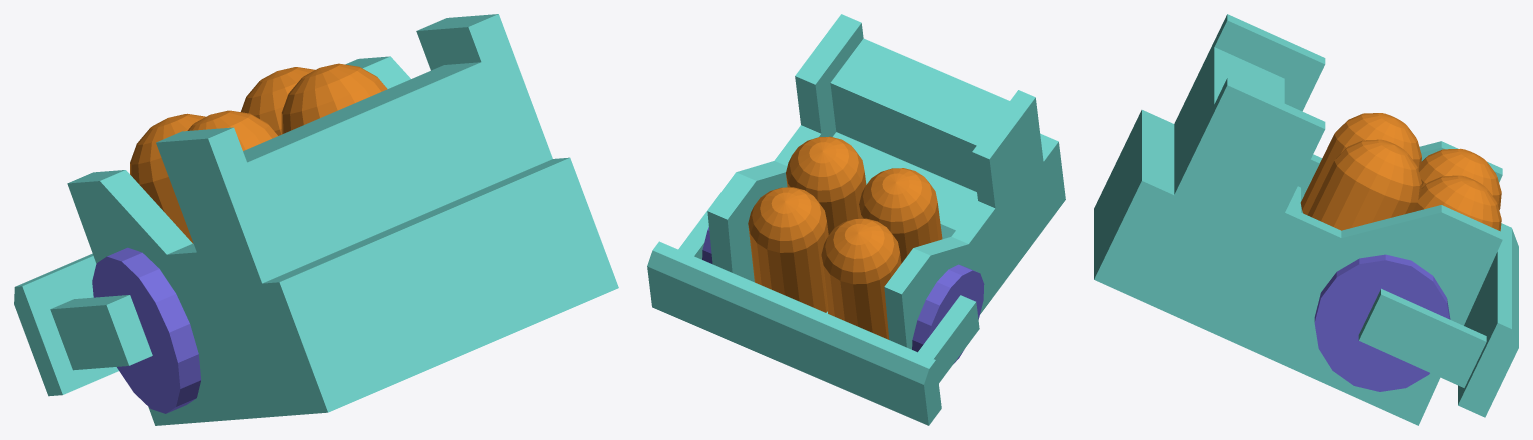
3 renders of one model, left to right at view 1: azimuth 30°, elevation 25°; view 2: azimuth 150°, elevation 25°; view 3: azimuth 270°, elevation 25°, orthographic. The views are drawn at different scales.
Visible parts, largest first — view 1: Box021; view 2: Box021; view 3: Box021.
Part boxes in pixels (x1,y1,x2,y2): Box021: [14, 14, 618, 425]; Box021: [647, 14, 1065, 425]; Box021: [1094, 14, 1518, 425].
Size of the model in its own units: 62.11 by 60.92 by 65.49.
